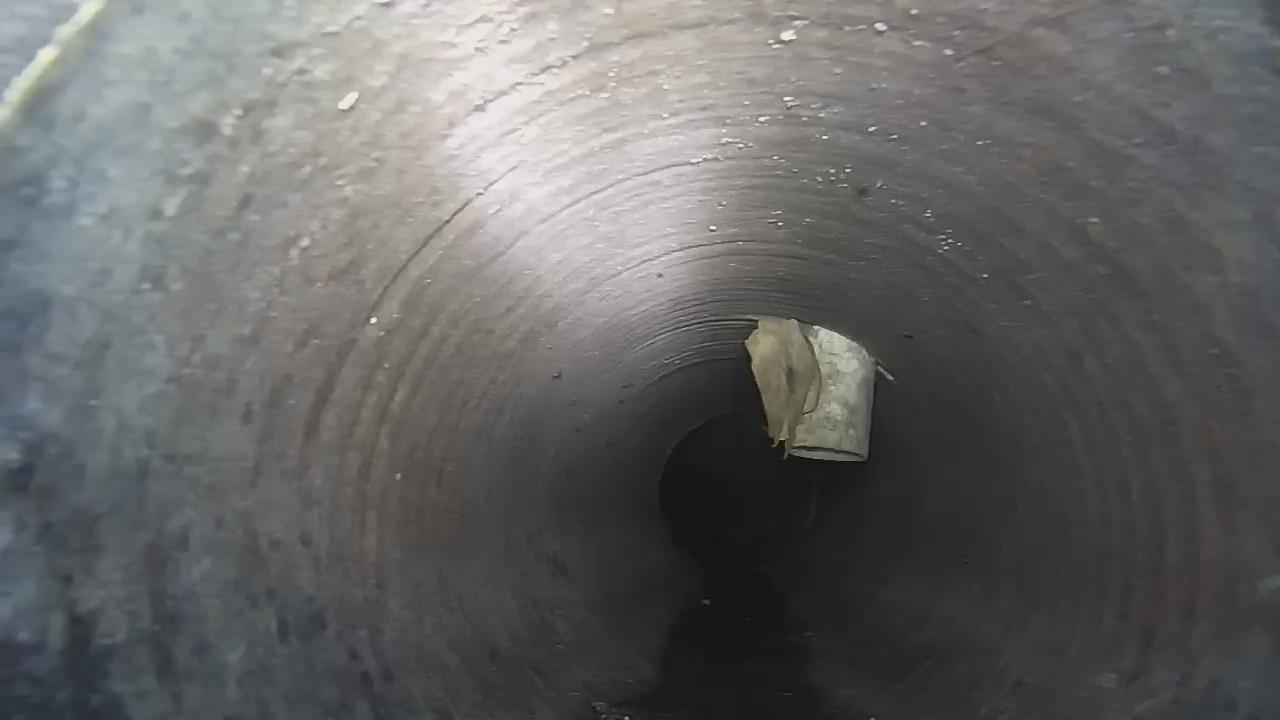ZGAJ: (745, 316, 878, 460)
